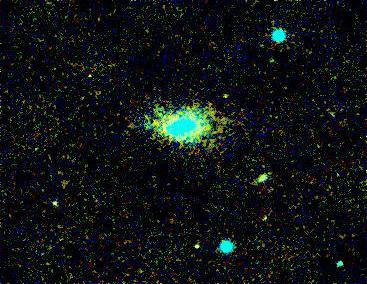star: (209, 86, 239, 116)
